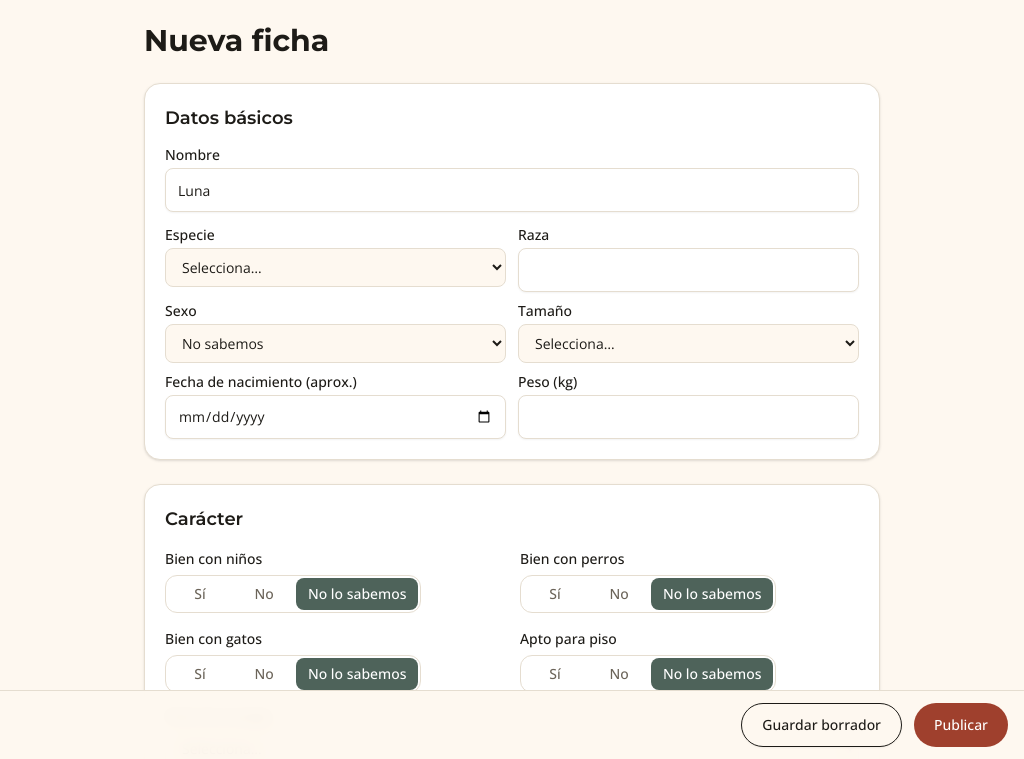
Test: AnimalForm › rechaza un enlace de YouTube inválido al guardar
This screenshot has width=1024, height=759.
What coordinates should you click on to do the following:
click the button "Guardar borrador"
I would click on:
 (822, 725)
Its box is x1=741 y1=703 x2=902 y2=747.
(page scrolled)
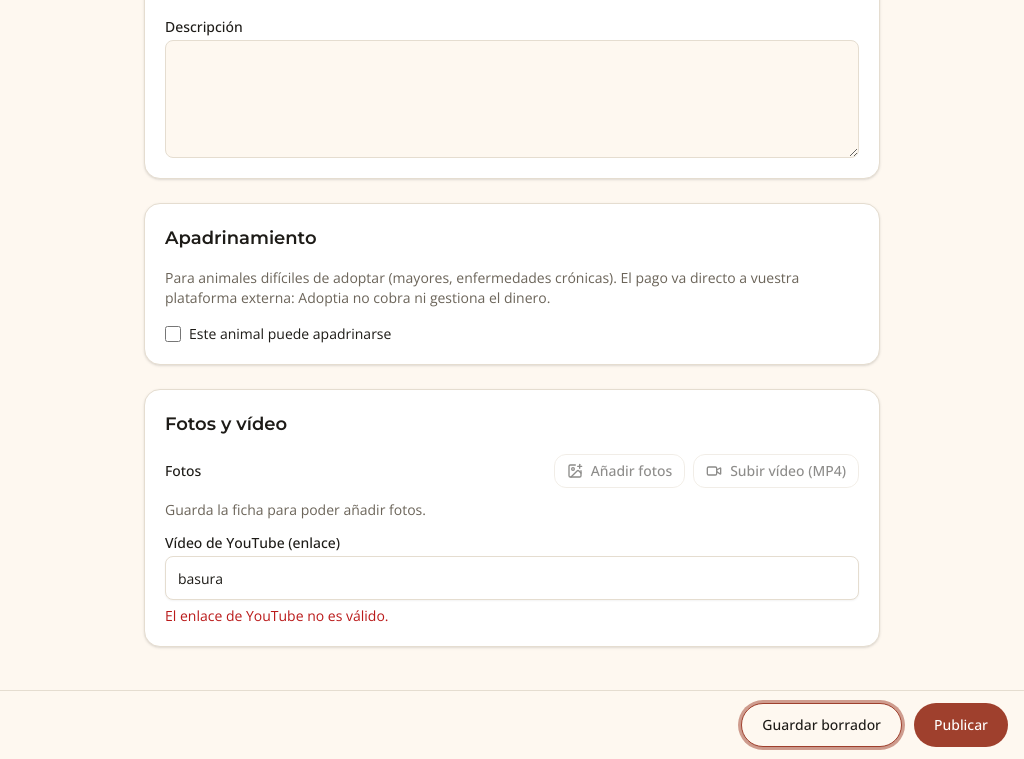
Now the text "El enlace de YouTube no es válido." is shown, box x1=165 y1=606 x2=388 y2=625
